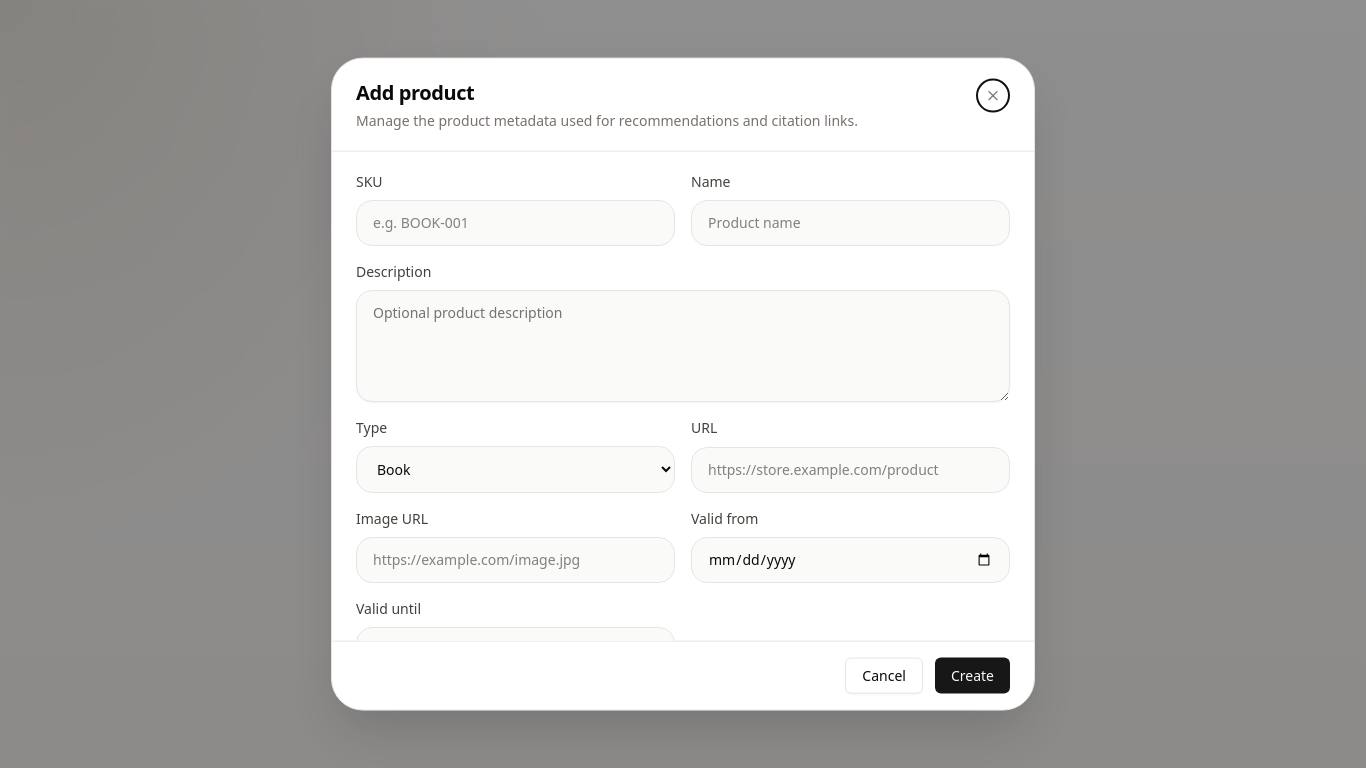
Test: CatalogFormDialog › renders create mode and validates required fields
This screenshot has width=1366, height=768.
Expected: the heading "Add product" is shown, left=356, top=79, right=474, bottom=106
Click the button "Create". click: (972, 675)
box: left=935, top=657, right=1010, bottom=693
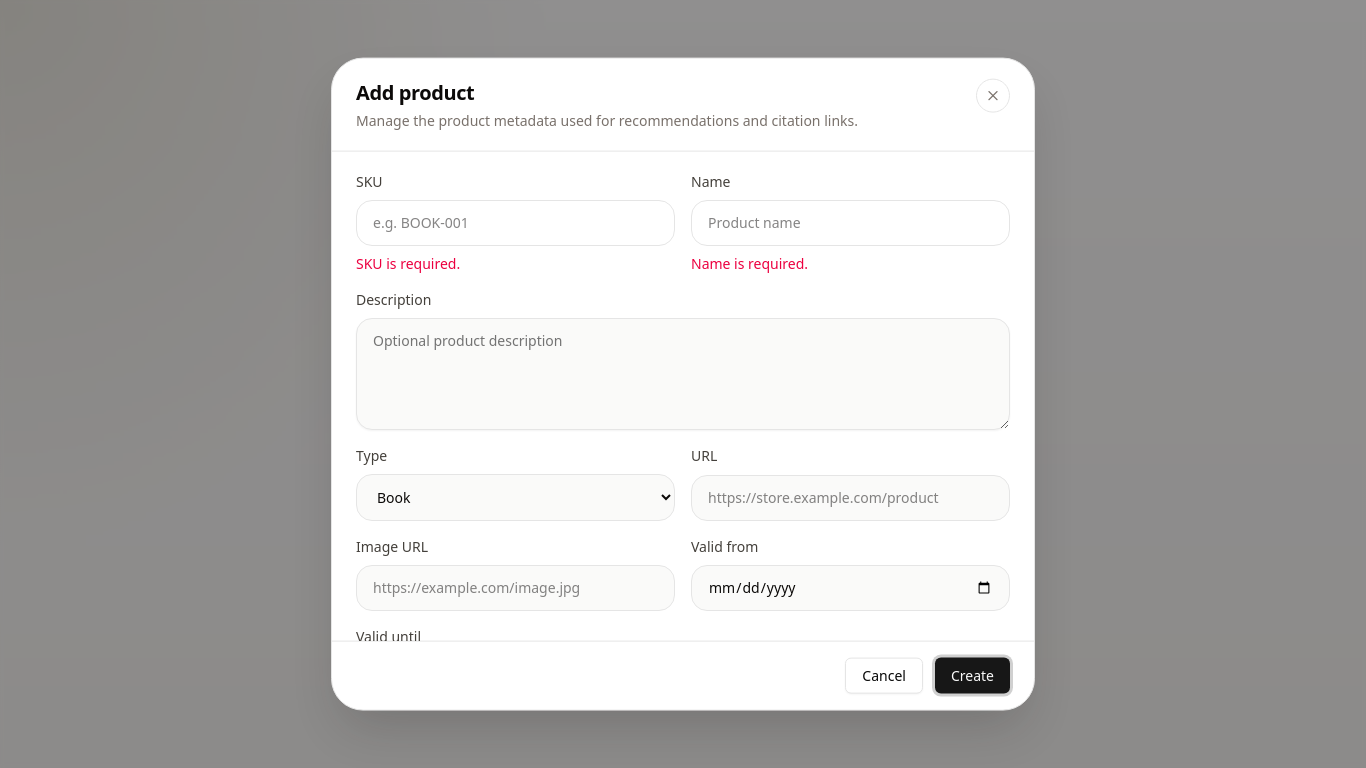
Expected: the text "SKU is required." is shown, left=356, top=254, right=460, bottom=273
Expected: the text "Name is required." is shown, left=691, top=254, right=808, bottom=273
